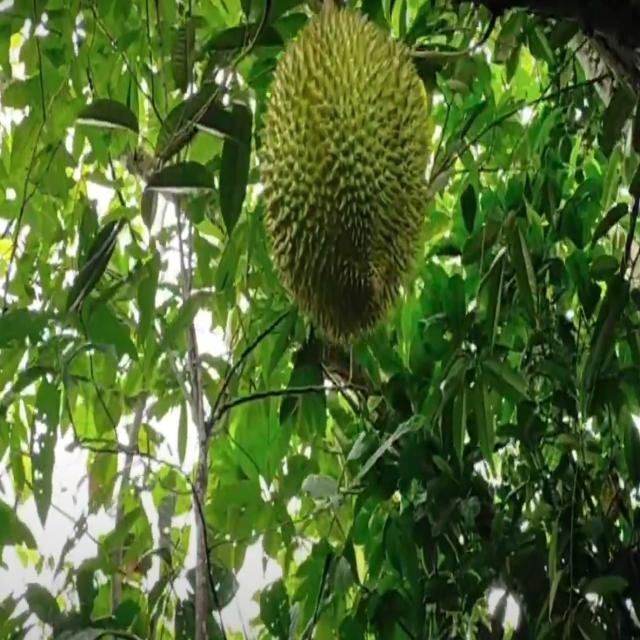immature: (261, 4, 429, 346)
